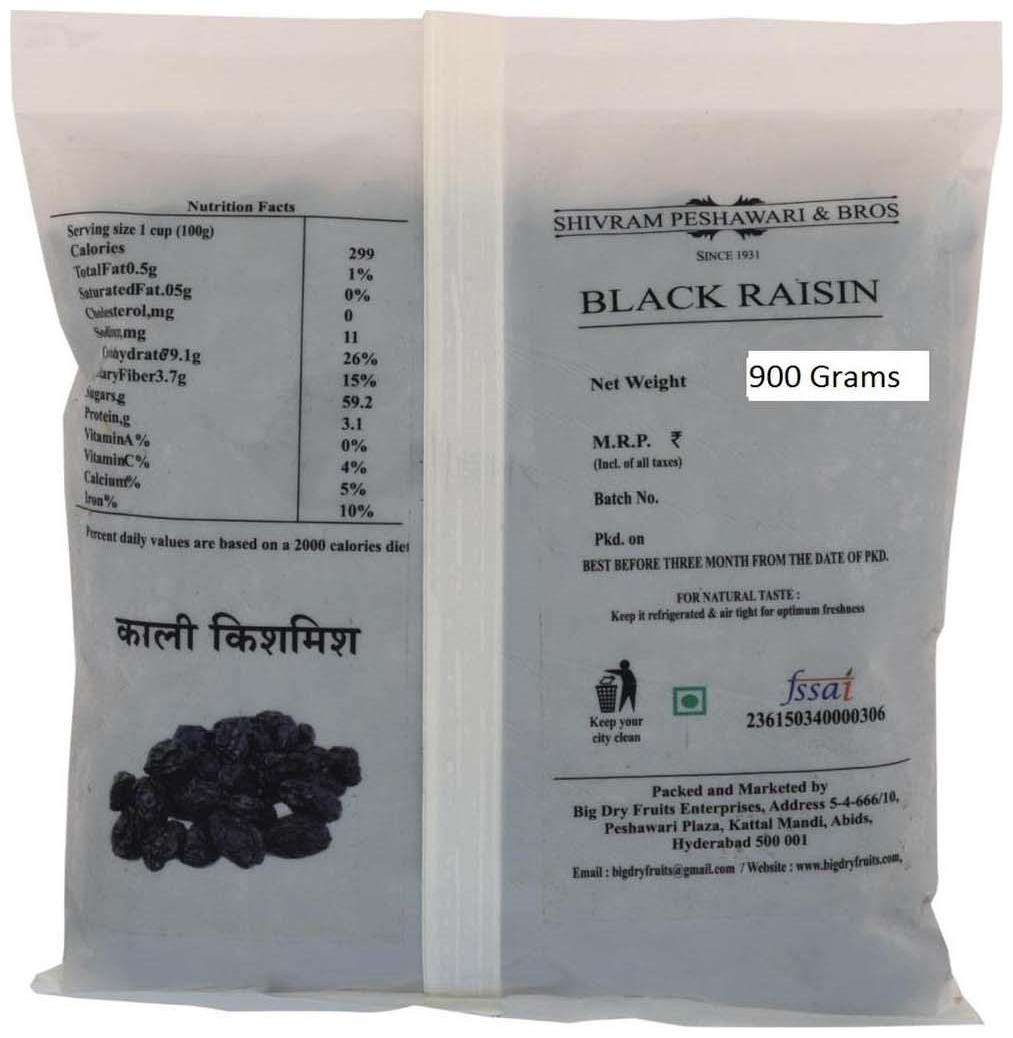fssai: (776, 664, 859, 706)
